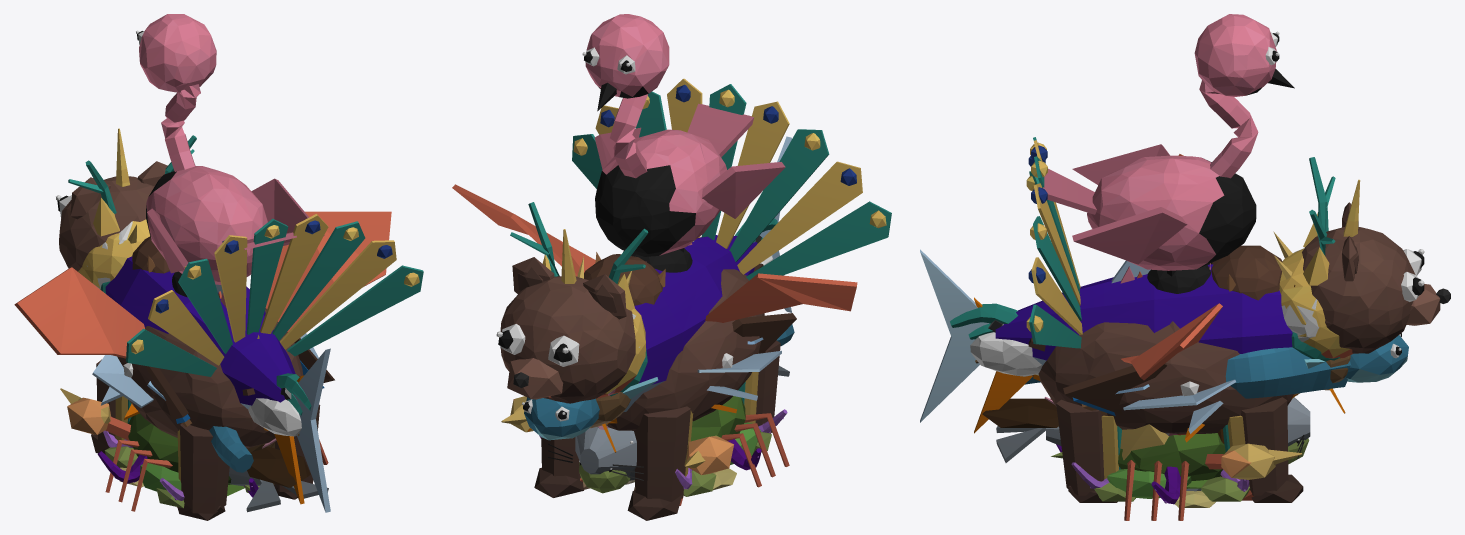
The model's file is pet.fbx.
The picture shows the model from 3 angles, left to right: view 1: azimuth 30°, elevation 25°; view 2: azimuth 150°, elevation 25°; view 3: azimuth 270°, elevation 25°; orthographic projection. The views are drawn at different scales.
Parts seen in each view (by area): view 1: pet_peacock, pet_flamingo, pet_grizzly, pet_dragon, pet_starwhale, pet_qilin, pet_turtle, pet_eagle, pet_hermit, pet_moonmoth, pet_snowfox, pet_beaver (+7 smaller); view 2: pet_grizzly, pet_flamingo, pet_peacock, pet_starwhale, pet_dragon, pet_qilin, pet_eagle, pet_wyrmling, pet_turtle, pet_seal, pet_hermit, pet_sandcrab (+6 smaller); view 3: pet_grizzly, pet_flamingo, pet_starwhale, pet_qilin, pet_peacock, pet_wyrmling, pet_eagle, pet_turtle, pet_hermit, pet_dragon, pet_seal, pet_snowfox (+7 smaller).
Boxes of the visible parts, bbox=[...] form: pet_peacock: bbox=[126, 214, 423, 423]; pet_flamingo: bbox=[136, 14, 324, 284]; pet_grizzly: bbox=[56, 161, 320, 520]; pet_dragon: bbox=[14, 211, 391, 423]; pet_starwhale: bbox=[101, 256, 330, 512]; pet_qilin: bbox=[68, 135, 311, 507]; pet_turtle: bbox=[104, 413, 259, 508]; pet_eagle: bbox=[132, 236, 334, 419]; pet_hermit: bbox=[60, 388, 328, 511]; pet_moonmoth: bbox=[92, 333, 318, 407]; pet_snowfox: bbox=[248, 398, 301, 436]; pet_beaver: bbox=[118, 243, 310, 487]; pet_grizzly: bbox=[496, 257, 780, 520]; pet_flamingo: bbox=[582, 14, 785, 256]; pet_peacock: bbox=[572, 78, 891, 280]; pet_starwhale: bbox=[623, 136, 791, 412]; pet_dragon: bbox=[452, 184, 857, 404]; pet_qilin: bbox=[510, 202, 777, 505]; pet_eagle: bbox=[584, 254, 796, 353]; pet_wyrmling: bbox=[522, 324, 794, 440]; pet_turtle: bbox=[579, 396, 771, 496]; pet_seal: bbox=[548, 365, 789, 480]; pet_hermit: bbox=[501, 396, 789, 487]; pet_sandcrab: bbox=[513, 399, 733, 475]; pet_grizzly: bbox=[1038, 202, 1450, 502]; pet_flamingo: bbox=[1043, 14, 1294, 276]; pet_starwhale: bbox=[920, 249, 1292, 433]; pet_qilin: bbox=[950, 157, 1352, 500]; pet_peacock: bbox=[1026, 137, 1115, 415]; pet_wyrmling: bbox=[1025, 333, 1408, 398]; pet_eagle: bbox=[1028, 245, 1282, 415]; pet_turtle: bbox=[1051, 433, 1309, 501]; pet_hermit: bbox=[1120, 424, 1302, 520]; pet_dragon: bbox=[968, 154, 1340, 469]; pet_seal: bbox=[996, 397, 1310, 491]; pet_snowfox: bbox=[970, 332, 1042, 376].
Size of the model in its own units: 1.27 by 1.41 by 1.48.
